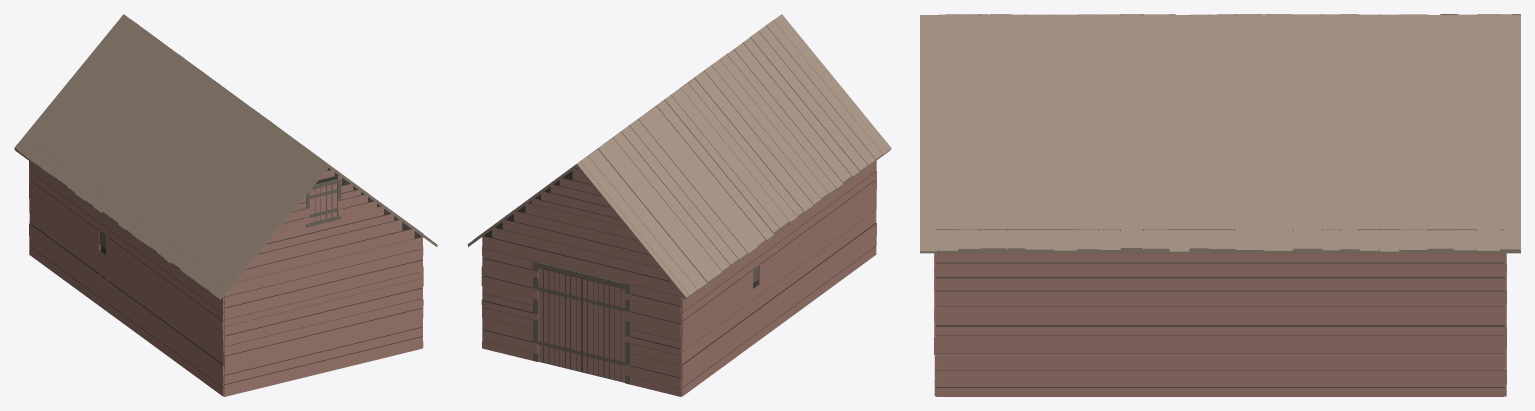
File: recon_1835_blk_randolph_market_a2_08__inferred_1835.glb
3 renders of one model, left to right at view 1: azimuth 30°, elevation 25°; view 2: azimuth 150°, elevation 25°; view 3: azimuth 270°, elevation 25°, orthographic. The views are drawn at different scales.
Parts seen in each view (by area): view 1: recon_1835_blk_randolph_market_a2_08__inferred_1835; view 2: recon_1835_blk_randolph_market_a2_08__inferred_1835; view 3: recon_1835_blk_randolph_market_a2_08__inferred_1835.
Boxes of the visible parts, bbox=[...] form: recon_1835_blk_randolph_market_a2_08__inferred_1835: bbox=[14, 14, 438, 396]; recon_1835_blk_randolph_market_a2_08__inferred_1835: bbox=[467, 14, 891, 396]; recon_1835_blk_randolph_market_a2_08__inferred_1835: bbox=[920, 14, 1520, 396].
Size of the model in its own units: 7.32 by 6.75 by 11.8.
